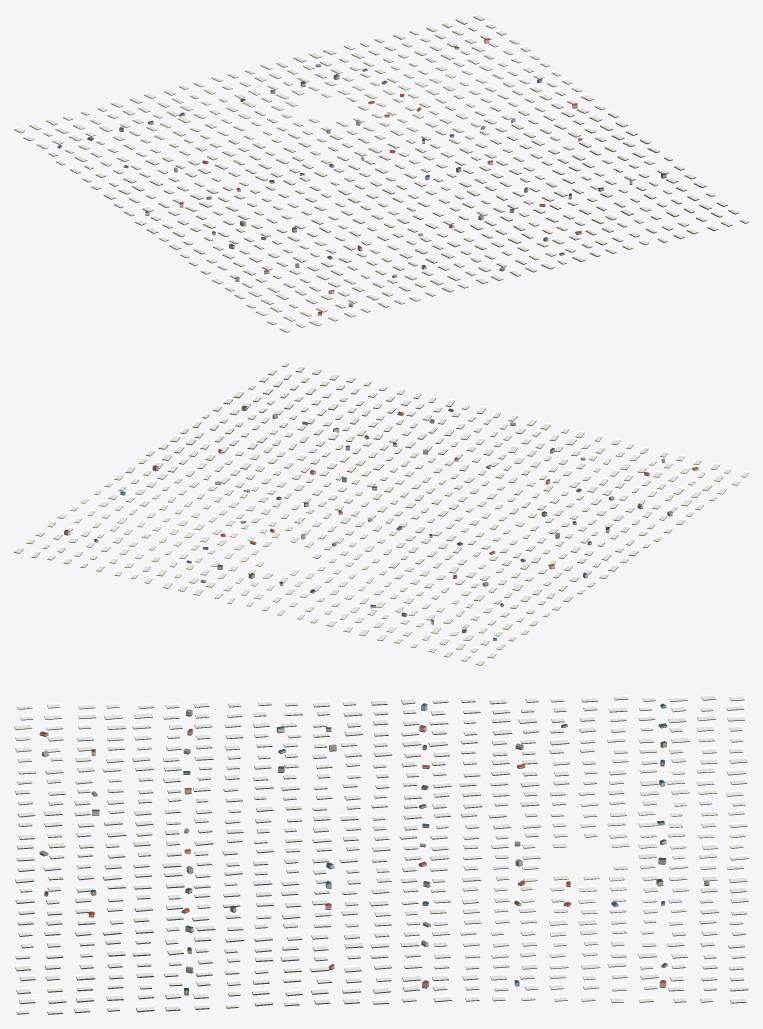
File: buildings_T_E03_N00.glb
3 views of the same model, one above another, from view 1: azimuth 30°, elevation 25°; view 2: azimuth 150°, elevation 25°; view 3: azimuth 270°, elevation 25° (orthographic). The views are drawn at different scales.
Parts seen in each view (by area): view 1: T_E03_N00_roofs_agri_greenhouse_arch, T_E03_N00_slope_seating_foundations; view 2: T_E03_N00_roofs_agri_greenhouse_arch, T_E03_N00_slope_seating_foundations; view 3: T_E03_N00_roofs_agri_greenhouse_arch, T_E03_N00_slope_seating_foundations.
Boxes of the visible parts, x1,y1,x2,y2 form: T_E03_N00_roofs_agri_greenhouse_arch: (14,14,748,332); T_E03_N00_slope_seating_foundations: (14,16,748,332); T_E03_N00_roofs_agri_greenhouse_arch: (14,361,748,665); T_E03_N00_slope_seating_foundations: (14,363,748,665); T_E03_N00_roofs_agri_greenhouse_arch: (14,694,748,1013); T_E03_N00_slope_seating_foundations: (14,696,748,1014).
Size of the model in its own units: 1772 by 56.62 by 1784.
